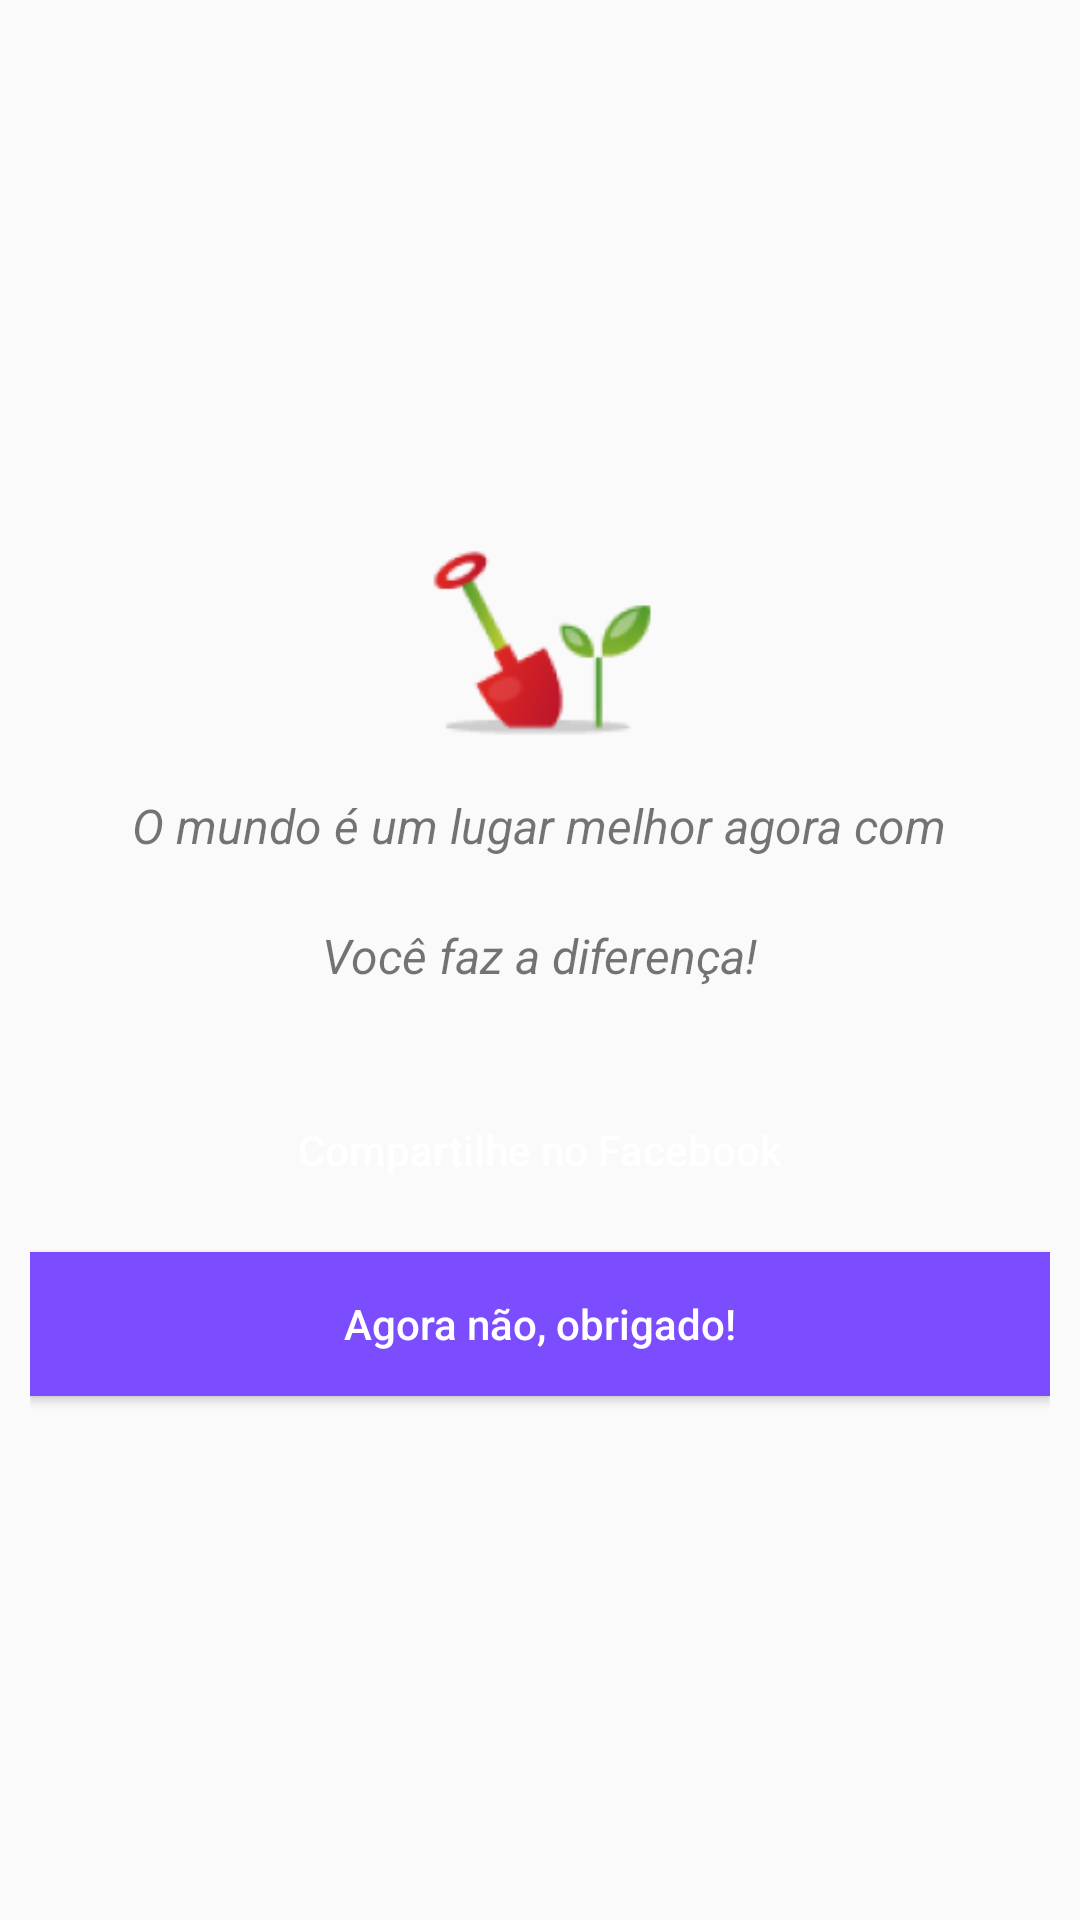

Icon bounding boxes for this 1080 x 1920 phone screenshot, format (x1, y1, x2, y2):
iplanted: (433, 551, 651, 733)
